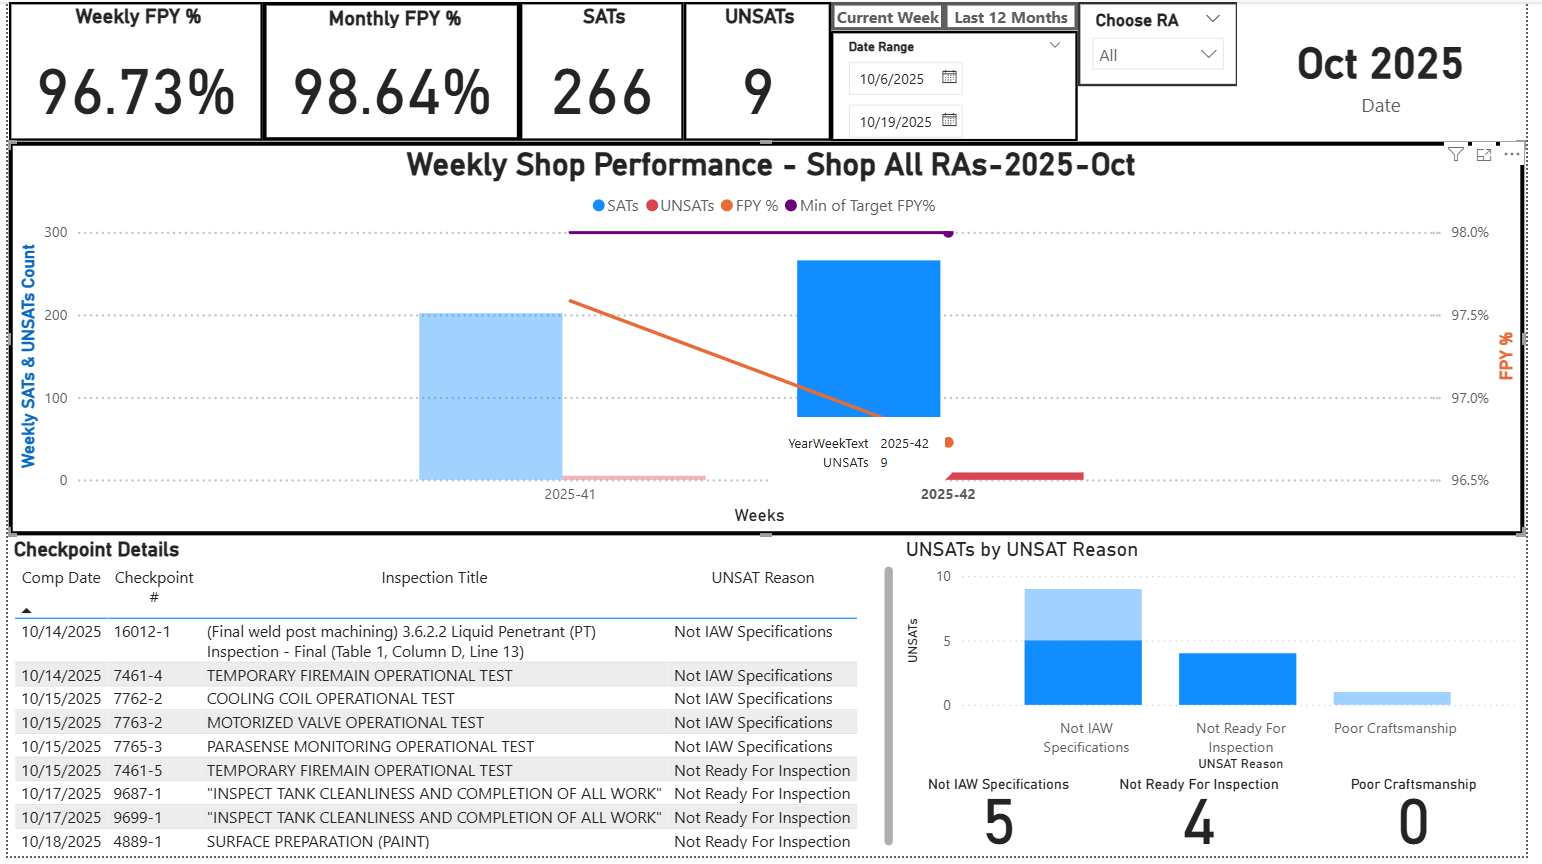

The dashboard page shown, as its layout file describes it:
{"tool":"powerbi","page":{"name":"FPY %","canvas":[1280,720],"ordinal":0},"visuals":[{"type":"lineClusteredColumnComboChart","fields":{"Y":["FPY_Graph.SATs","FPY_Graph.UNSATs"],"Y2":["FPY_Graph.FPY %","Min(FPY_Graph.Target FPY%)"],"Category":["Calendar.YearWeekText"]},"box":[0,106.2,1279,344],"z":0},{"type":"card","title":"Weekly FPY %","fields":{"Values":["FPY_Graph.Weekly FPY % (Card)"]},"box":[0.9,0,213.9,106.1],"z":1000},{"type":"card","title":"Monthly FPY %","fields":{"Values":["FPY_Graph.Monthly / Period FPY% (Smart)"]},"box":[214.8,0,216.5,106.1],"z":2000},{"type":"card","title":"SATs","fields":{"Values":["FPY_Graph.SATs (0)"]},"box":[431.3,0,138.9,106.1],"z":3000},{"type":"card","title":"UNSATs","fields":{"Values":["FPY_Graph.UNSATs(0)"]},"box":[570.1,0,123.3,106.1],"z":4000},{"type":"slicer","fields":{"Values":["FPY_Graph.RA"]},"box":[902.2,0,134.6,106.1],"z":5000},{"type":"slicer","fields":{"Values":["Calendar.Date"]},"box":[693.5,24.2,208.7,81.9],"z":6000},{"type":"actionButton","box":[693.5,0,95.7,24.2],"z":7000},{"type":"actionButton","box":[789.2,0,113,24.2],"z":8000},{"type":"tableEx","title":"Checkpoint Details","fields":{"Values":["FPY_Graph.Completion Date","FPY_Graph.Checkpoint #","FPY_Graph.Inspection Title","FPY_Graph.UNSAT Reason"]},"box":[0,451,752,268],"z":9000},{"type":"clusteredColumnChart","fields":{"Category":["FPY_Graph.UNSAT Reason (Clean)"],"Y":["FPY_Graph.UNSATs"]},"box":[752,451.1,526.9,201.5],"z":10000},{"type":"card","title":"Not IAW Specifications","fields":{"Values":["FPY_Graph.UNSATs - Not IAW Specifications"]},"box":[752,652.6,166.1,67.4],"z":11000},{"type":"card","title":"Not Ready For Inspection","fields":{"Values":["FPY_Graph.UNSATs - Not Ready For Inspection"]},"box":[918.1,652.6,172,67.4],"z":12000},{"type":"card","title":"Poor Craftsmanship","fields":{"Values":["FPY_Graph.UNSATs - Poor Craftsmanship"]},"box":[1090.1,652.6,189.7,67.4],"z":13000},{"type":"card","fields":{"Values":["FPY_Graph.Date Context (Simple)"]},"box":[1036.2,0,242.8,106.2],"z":14000}]}

Visuals, with their boxes in screenshot pixels (x1, y1, x2, y2), scaled from the page's 1280x720 canvas onto the 1542x864 screenshot:
lineClusteredColumnComboChart - FPY_Graph.SATs x FPY_Graph.UNSATs: {"x1": 0, "y1": 127, "x2": 1541, "y2": 540}
"Weekly FPY %" card: {"x1": 1, "y1": 0, "x2": 259, "y2": 127}
"Monthly FPY %" card: {"x1": 259, "y1": 0, "x2": 520, "y2": 127}
"SATs" card: {"x1": 520, "y1": 0, "x2": 687, "y2": 127}
"UNSATs" card: {"x1": 687, "y1": 0, "x2": 835, "y2": 127}
slicer - FPY_Graph.RA: {"x1": 1087, "y1": 0, "x2": 1249, "y2": 127}
slicer - Calendar.Date: {"x1": 835, "y1": 29, "x2": 1087, "y2": 127}
actionButton: {"x1": 835, "y1": 0, "x2": 951, "y2": 29}
actionButton: {"x1": 951, "y1": 0, "x2": 1087, "y2": 29}
"Checkpoint Details" tableEx: {"x1": 0, "y1": 541, "x2": 906, "y2": 863}
clusteredColumnChart - FPY_Graph.UNSAT Reason (Clean) x FPY_Graph.UNSATs: {"x1": 906, "y1": 541, "x2": 1541, "y2": 783}
"Not IAW Specifications" card: {"x1": 906, "y1": 783, "x2": 1106, "y2": 863}
"Not Ready For Inspection" card: {"x1": 1106, "y1": 783, "x2": 1313, "y2": 863}
"Poor Craftsmanship" card: {"x1": 1313, "y1": 783, "x2": 1541, "y2": 863}
card - FPY_Graph.Date Context (Simple): {"x1": 1248, "y1": 0, "x2": 1541, "y2": 127}
